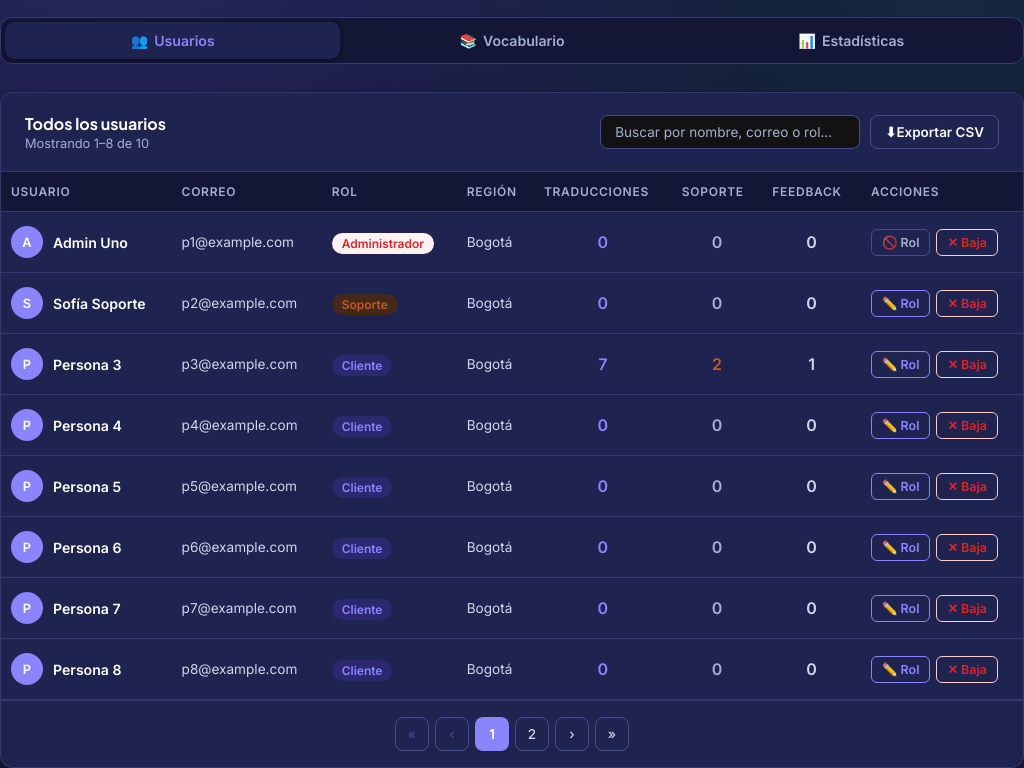
Test: Administración · Usuarios › should list the users with their metrics and paginate by 8
The width and height of the screenshot is (1024, 768).
(page scrolled)
Expected: the text "Mostrando 1–8 de 10" is shown, [25,136,166,151]
Expected: the text "7" is shown, [598,354,607,374]
Click the button "2" at (532, 734), box [515,717,549,751]
(page scrolled)
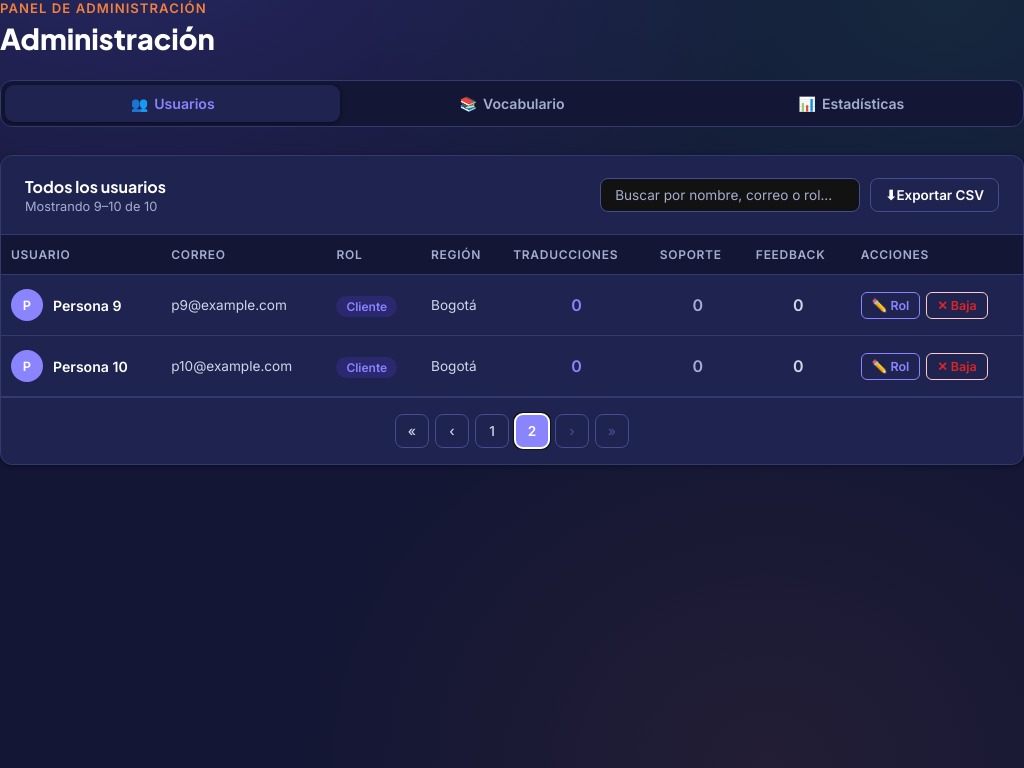
Now the text "Mostrando 9–10 de 10" is shown, box [25,199,166,214]
Now the text "Persona 9" is shown, box [53,297,122,314]
